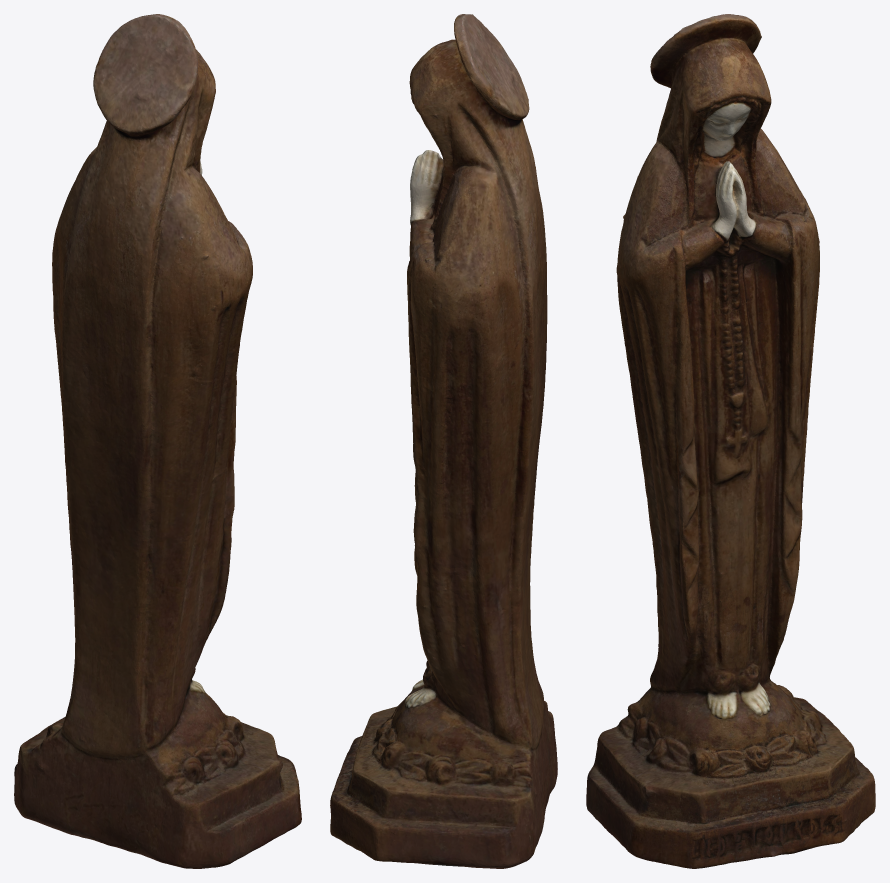
File: virgen_madera 1.fbx
3 renders of one model, left to right at view 1: azimuth 30°, elevation 25°; view 2: azimuth 150°, elevation 25°; view 3: azimuth 270°, elevation 25°, orthographic.
Visible parts, largest first — view 1: Mesh_0.003; view 2: Mesh_0.003; view 3: Mesh_0.003.
Boxes of the visible parts, x1,y1,x2,y2 form: Mesh_0.003: (14, 14, 301, 868); Mesh_0.003: (330, 14, 557, 868); Mesh_0.003: (586, 14, 875, 868).
Size of the model in its own units: 205 by 694 by 228.
1 material, 1 textured.
